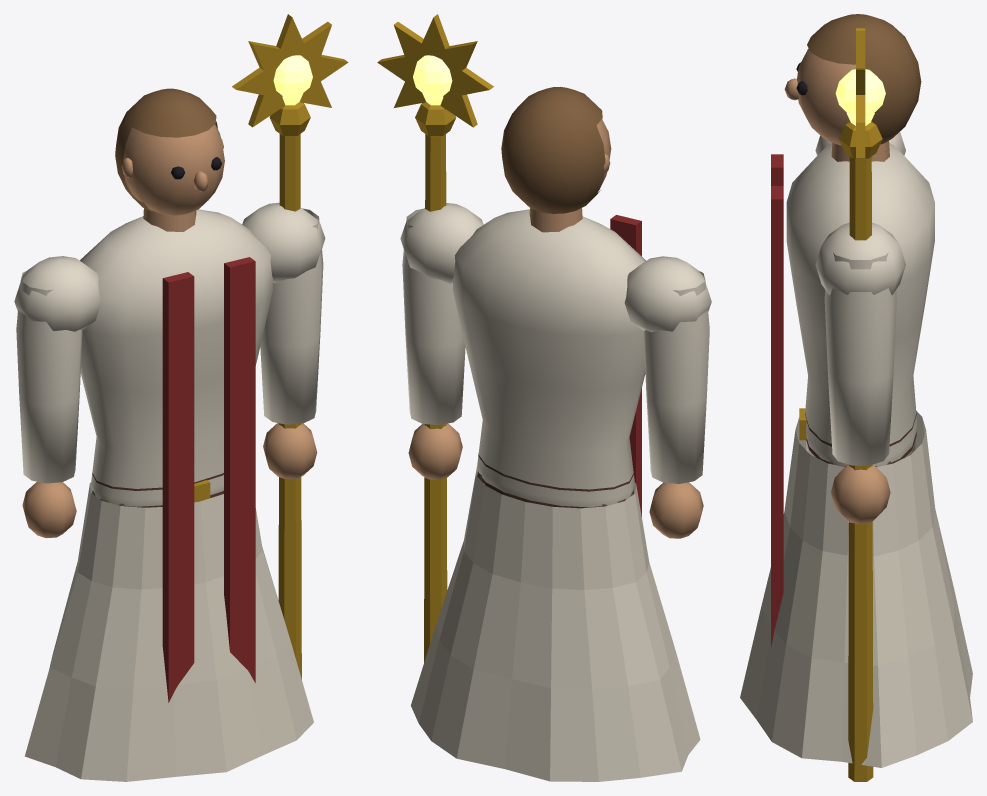
File: human_shaman.glb
The picture shows the model from 3 angles, left to right: view 1: azimuth 30°, elevation 25°; view 2: azimuth 150°, elevation 25°; view 3: azimuth 270°, elevation 25°; orthographic projection. The views are drawn at different scales.
Visible parts, largest first — view 1: Body, ArmR, ArmL, Head; view 2: Body, ArmR, ArmL, Head; view 3: Body, ArmR, Head.
Boxes of the visible parts, x1=… form: Body: x1=14, y1=202, x2=325, y2=781; ArmR: x1=232, y1=14, x2=348, y2=679; ArmL: x1=16, y1=271, x2=82, y2=538; Head: x1=115, y1=88, x2=224, y2=215; Body: x1=400, y1=203, x2=711, y2=781; ArmR: x1=377, y1=14, x2=493, y2=662; ArmL: x1=643, y1=271, x2=709, y2=538; Head: x1=501, y1=87, x2=611, y2=214; Body: x1=740, y1=132, x2=972, y2=767; ArmR: x1=824, y1=28, x2=896, y2=781; Head: x1=784, y1=14, x2=921, y2=145.
Bounding box in the file's own units: 1.27 × 2.62 × 0.7409.
